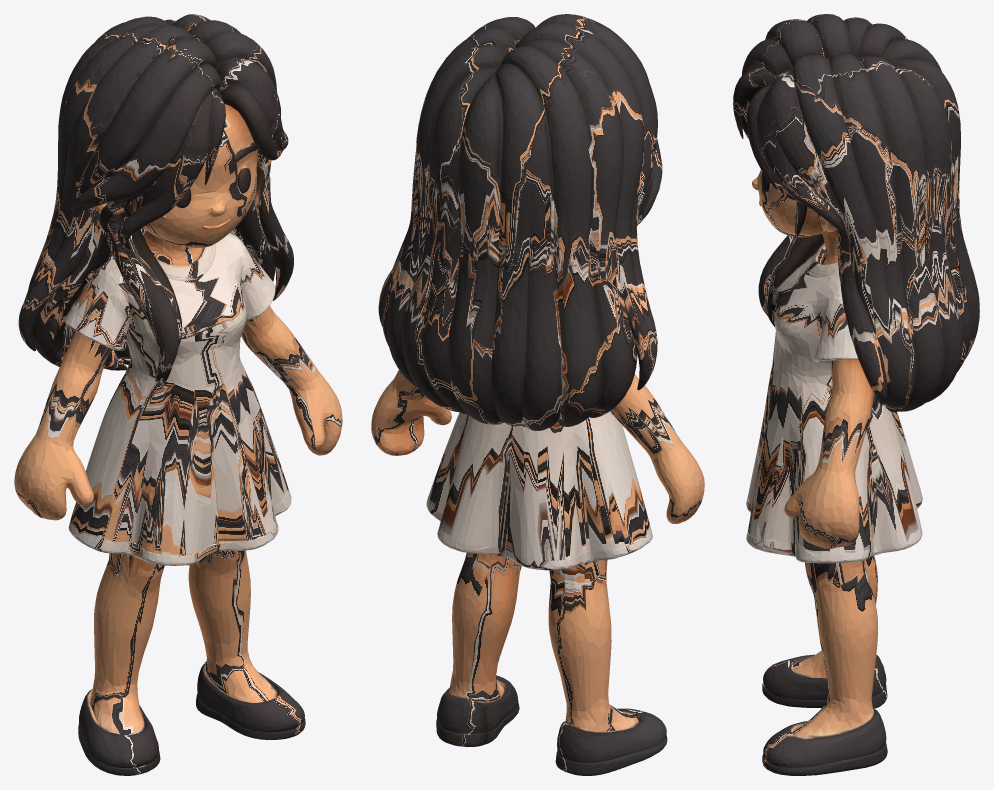
The model's file is isa.glb.
3 renders of one model, left to right at view 1: azimuth 30°, elevation 25°; view 2: azimuth 150°, elevation 25°; view 3: azimuth 270°, elevation 25°, orthographic. The views are drawn at different scales.
Parts seen in each view (by area): view 1: tripo_node_a7d5003d-edd1-480e-8a96-c22878b4f2a8; view 2: tripo_node_a7d5003d-edd1-480e-8a96-c22878b4f2a8; view 3: tripo_node_a7d5003d-edd1-480e-8a96-c22878b4f2a8.
Part boxes in pixels (x1,y1,x2,y2): tripo_node_a7d5003d-edd1-480e-8a96-c22878b4f2a8: (14, 14, 342, 775); tripo_node_a7d5003d-edd1-480e-8a96-c22878b4f2a8: (371, 14, 704, 775); tripo_node_a7d5003d-edd1-480e-8a96-c22878b4f2a8: (733, 14, 979, 775).
Size of the model in its own units: 0.4585 by 0.9798 by 0.3121.
Materials: 1 (1 with a texture image).
